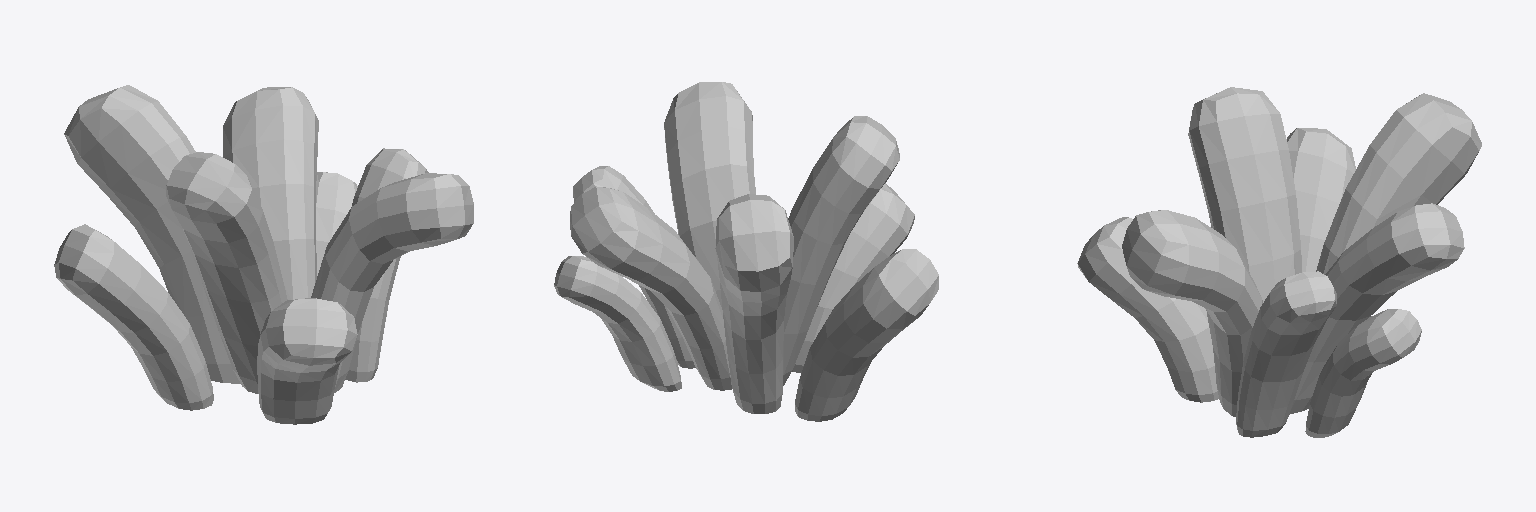
The model's file is Anemone_A_02_LOD0.obj.
3 views of the same model, side by side, from view 1: azimuth 30°, elevation 25°; view 2: azimuth 150°, elevation 25°; view 3: azimuth 270°, elevation 25° (orthographic).
Visible parts, largest first — view 1: Anemone_A_02_LOD0_Cylinder.309; view 2: Anemone_A_02_LOD0_Cylinder.309; view 3: Anemone_A_02_LOD0_Cylinder.309.
Boxes of the visible parts, box(x1,y1,x2,y2) form: Anemone_A_02_LOD0_Cylinder.309: box(54, 85, 473, 424); Anemone_A_02_LOD0_Cylinder.309: box(554, 82, 938, 421); Anemone_A_02_LOD0_Cylinder.309: box(1077, 87, 1481, 437).
Size of the model in its own units: 4.18 by 2.96 by 4.09.